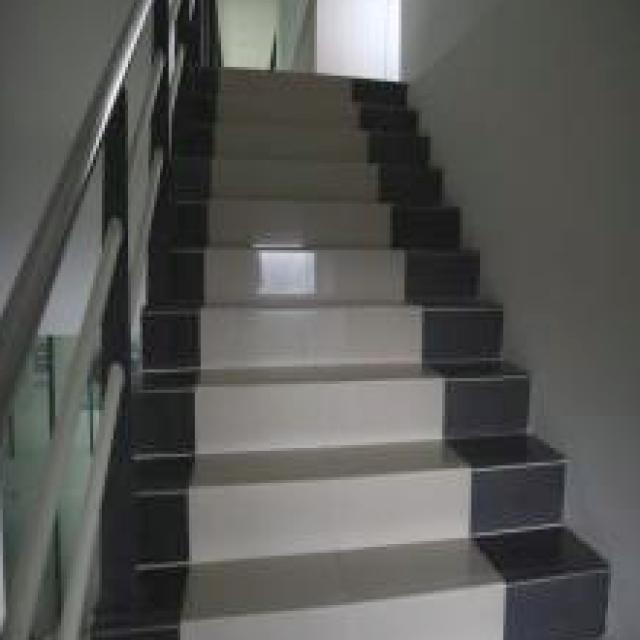upstair: (190, 68, 408, 277)
